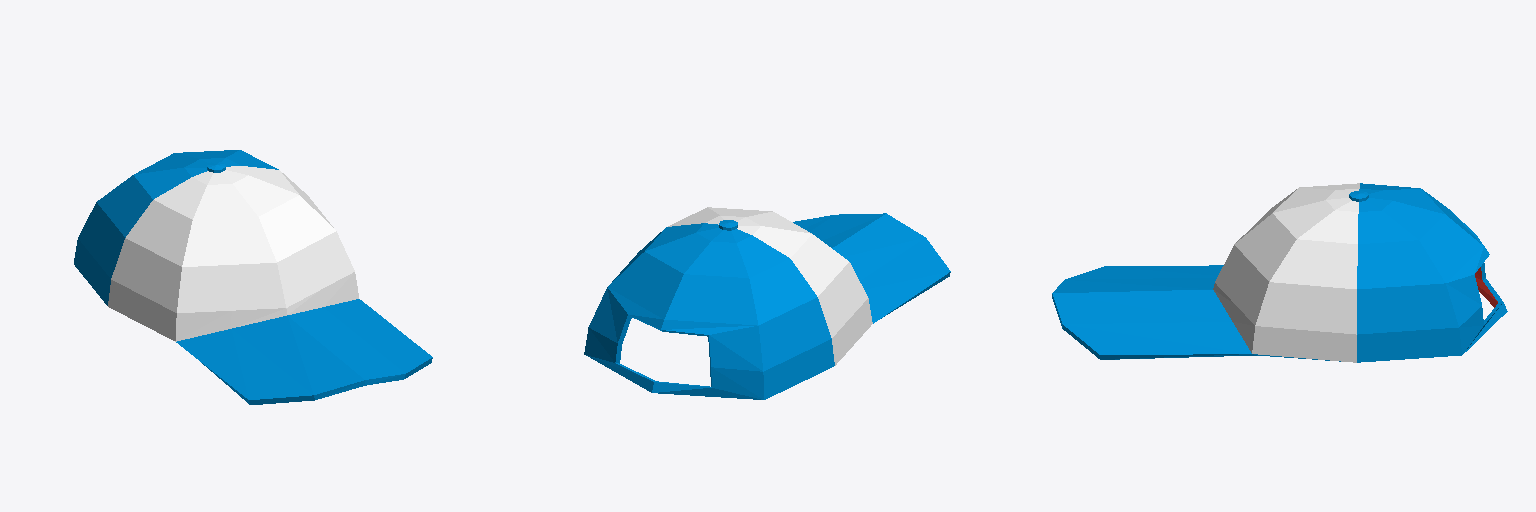
The model's file is Baseball_Cap_01.obj.
The picture shows the model from 3 angles: view 1: azimuth 30°, elevation 25°; view 2: azimuth 150°, elevation 25°; view 3: azimuth 270°, elevation 25°; orthographic projection.
Visible parts, largest first — view 1: Baseball_Cap_01_Circle.002; view 2: Baseball_Cap_01_Circle.002; view 3: Baseball_Cap_01_Circle.002.
Part boxes in pixels (bbox=[...]): Baseball_Cap_01_Circle.002: bbox=[74, 150, 432, 404]; Baseball_Cap_01_Circle.002: bbox=[584, 207, 950, 399]; Baseball_Cap_01_Circle.002: bbox=[1052, 183, 1507, 362].
Size of the model in its own units: 18.42 by 10.19 by 33.78.